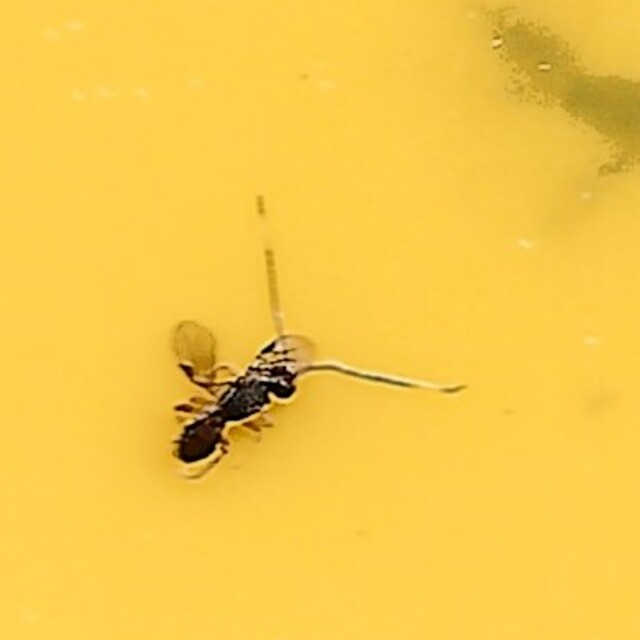Hymenoptera: (165, 165, 475, 475)
